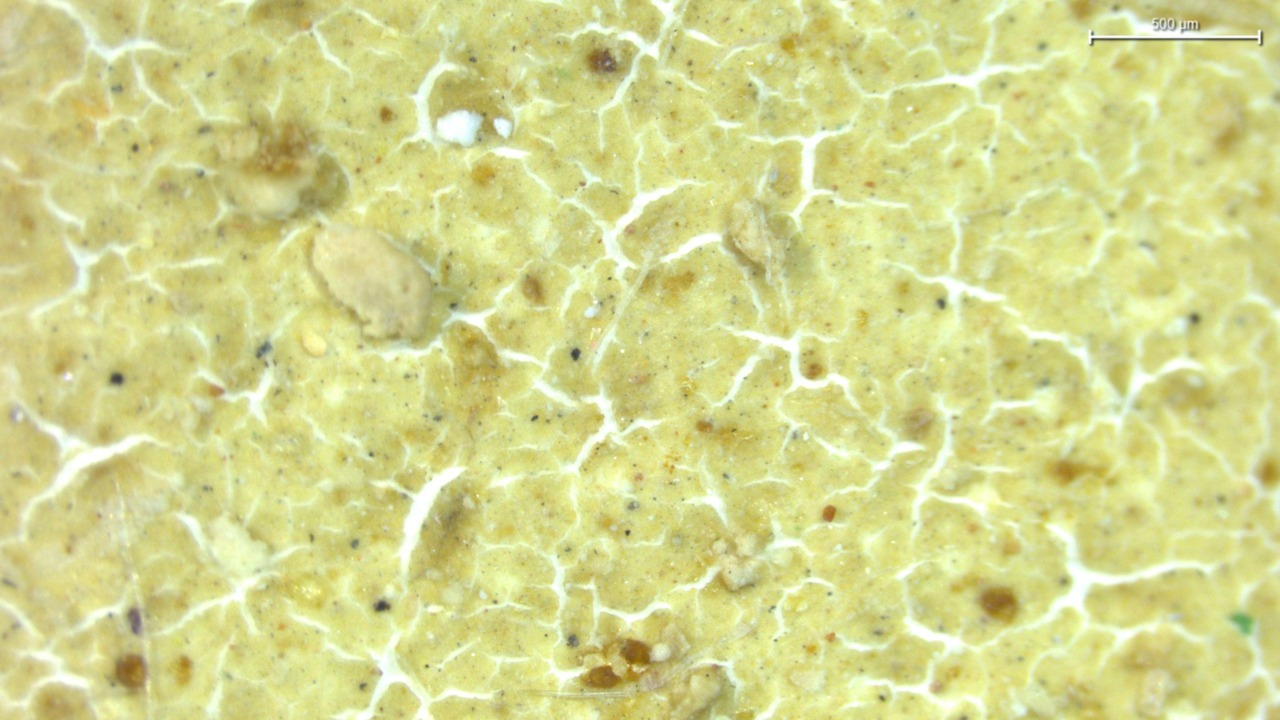microplastic_fragment: (313, 224, 432, 339), (734, 200, 786, 282), (438, 111, 483, 147), (493, 118, 512, 139)
